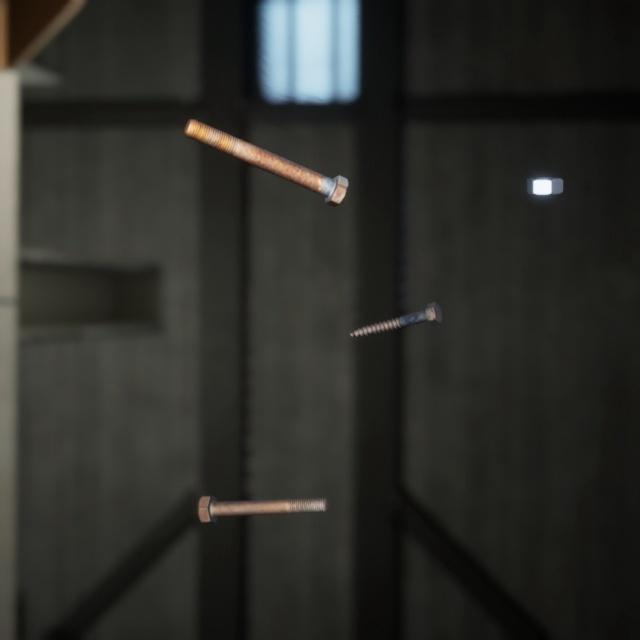bolt: (179, 100, 352, 196), (193, 469, 333, 505), (345, 280, 446, 324)
nut: (522, 158, 567, 185)
